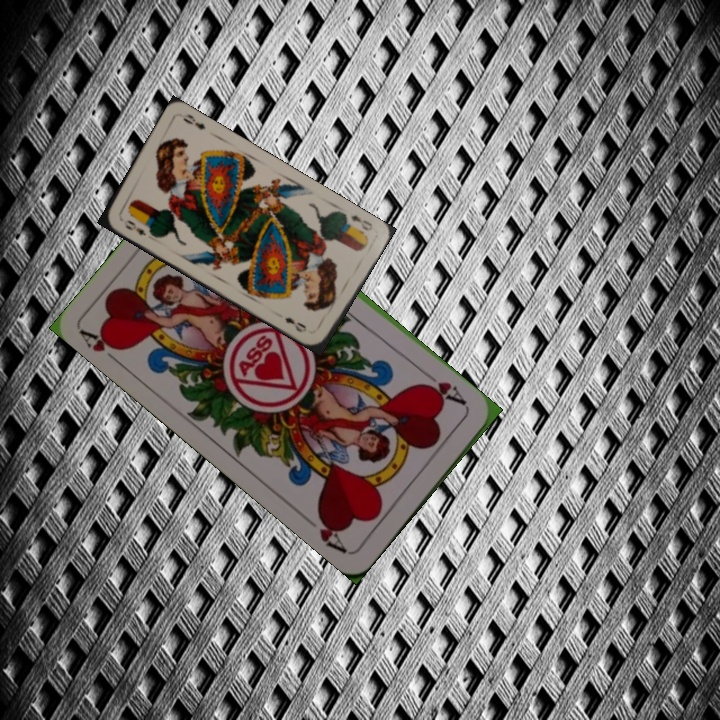EO: (347, 211, 375, 234), (121, 216, 149, 238)
HA: (77, 325, 127, 370), (417, 377, 470, 412)
